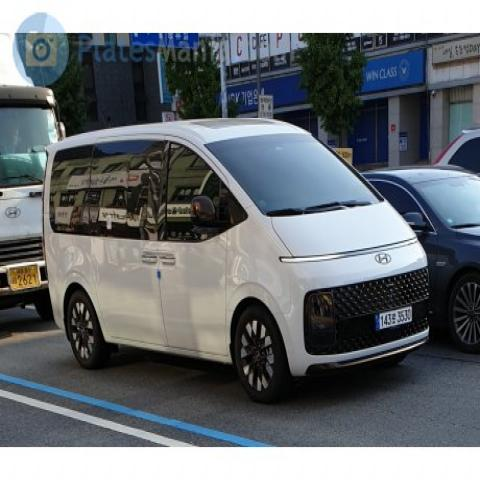LP: (368, 302, 416, 334)
